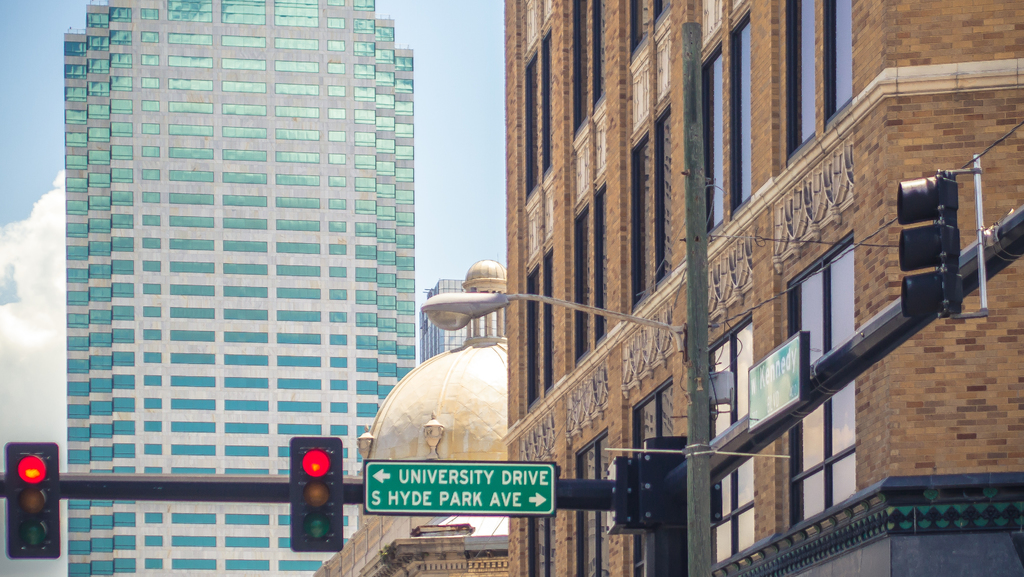red_light: (7, 445, 58, 558), (292, 440, 343, 551)
